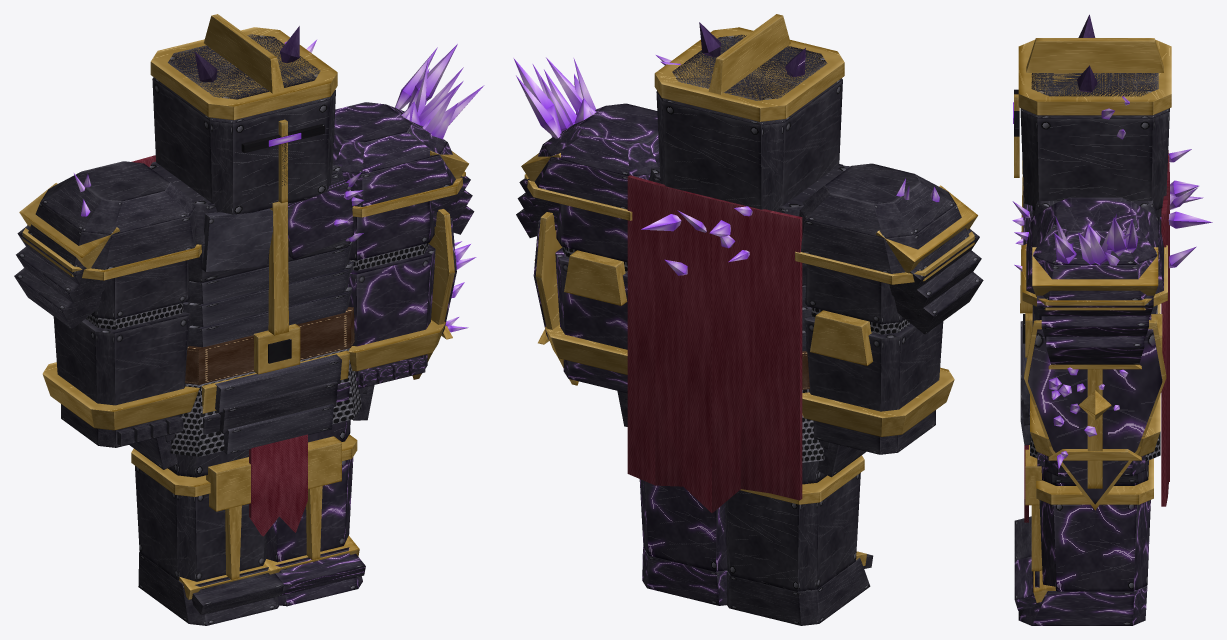
File: KnightHigh.fbx
The picture shows the model from 3 angles, left to right: view 1: azimuth 30°, elevation 25°; view 2: azimuth 150°, elevation 25°; view 3: azimuth 270°, elevation 25°; orthographic projection.
Visible parts, largest first — view 1: Head_Armor, LowerTorso_Armor, RightUpperArm_Armor, UpperTorso_Armor, LeftUpperArm_Armor, RightLowerLeg_Armor, RightLowerArm_Armor, LeftLowerLeg_Armor, LeftLowerArm_Armor, RightHand_Armor, RightFoot_Armor, LeftFoot_Armor (+5 smaller); view 2: UpperTorso_Armor, Head_Armor, RightUpperArm_Armor, LeftUpperArm_Armor, RightLowerLeg_Armor, RightLowerArm_Armor, RightHand_Armor, LeftLowerArm_Armor, LeftLowerLeg_Armor, RightFoot_Armor, LeftUpperArm_Glow, LeftHand_Armor (+4 smaller); view 3: Head_Armor, LeftUpperArm_Armor, LeftLowerArm_Shield, LeftLowerLeg_Armor, LeftFoot_Armor, UpperTorso_Armor, LeftUpperArm_Glow, LeftHand_Armor, LowerTorso_Armor, UpperTorso_Glow, RightFoot_Armor, LeftLowerArm_Glow (+2 smaller).
Boxes of the visible parts, left/top/right/bottom form: Head_Armor: left=150, top=14, right=337, bottom=214; LowerTorso_Armor: left=129, top=307, right=374, bottom=536; RightUpperArm_Armor: left=14, top=161, right=201, bottom=329; UpperTorso_Armor: left=131, top=155, right=354, bottom=347; LeftUpperArm_Armor: left=333, top=102, right=474, bottom=270; RightLowerLeg_Armor: left=131, top=448, right=267, bottom=581; RightLowerArm_Armor: left=53, top=312, right=190, bottom=424; LeftLowerLeg_Armor: left=266, top=434, right=357, bottom=562; LeftLowerArm_Armor: left=348, top=244, right=435, bottom=346; RightHand_Armor: left=42, top=362, right=199, bottom=447; RightFoot_Armor: left=138, top=552, right=284, bottom=625; LeftFoot_Armor: left=264, top=535, right=365, bottom=606; UpperTorso_Armor: left=627, top=164, right=850, bottom=512; Head_Armor: left=654, top=14, right=844, bottom=211; RightUpperArm_Armor: left=795, top=163, right=983, bottom=334; LeftUpperArm_Armor: left=516, top=103, right=659, bottom=272; RightLowerLeg_Armor: left=724, top=455, right=864, bottom=591; RightLowerArm_Armor: left=804, top=310, right=943, bottom=411; RightHand_Armor: left=802, top=367, right=954, bottom=454; LeftLowerArm_Armor: left=555, top=248, right=627, bottom=349; LeftLowerLeg_Armor: left=639, top=479, right=727, bottom=571; RightFoot_Armor: left=727, top=551, right=873, bottom=625; LeftUpperArm_Glow: left=513, top=57, right=596, bottom=138; LeftHand_Armor: left=545, top=324, right=627, bottom=393; Head_Armor: left=1014, top=14, right=1171, bottom=210; LeftUpperArm_Armor: left=1022, top=197, right=1167, bottom=364; LeftLowerArm_Shield: left=1024, top=320, right=1166, bottom=510; LeftLowerLeg_Armor: left=1025, top=445, right=1153, bottom=591; LeftFoot_Armor: left=1014, top=556, right=1147, bottom=625; UpperTorso_Armor: left=1020, top=150, right=1169, bottom=506; LeftUpperArm_Glow: left=1054, top=214, right=1138, bottom=265; LeftHand_Armor: left=1030, top=394, right=1160, bottom=476; LowerTorso_Armor: left=1020, top=305, right=1160, bottom=522; UpperTorso_Glow: left=1012, top=149, right=1212, bottom=271; RightFoot_Armor: left=1014, top=516, right=1031, bottom=560; LeftLowerArm_Glow: left=1058, top=367, right=1128, bottom=436.
Bounding box in the file's own units: 532 × 643 × 215.
2 materials, 2 textured.
